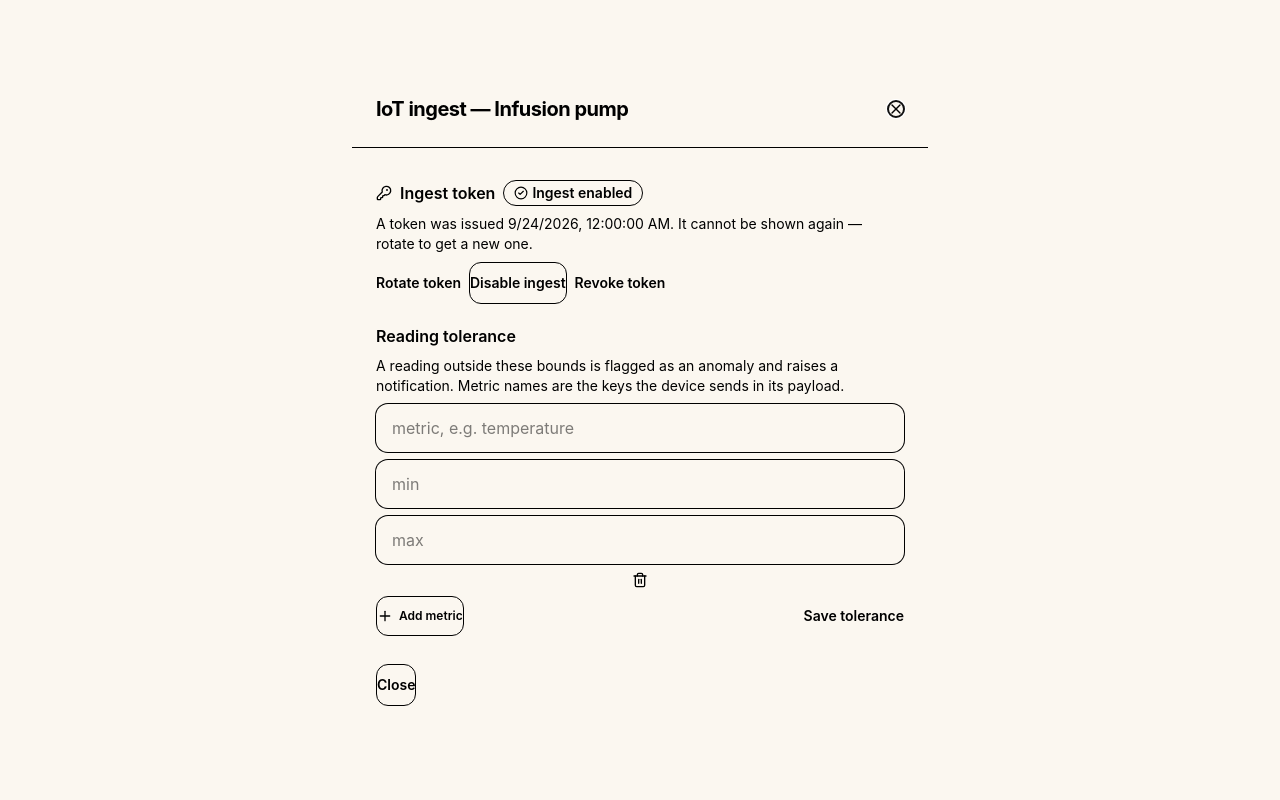
A-29 — IotDeviceModal › revokes the token
The width and height of the screenshot is (1280, 800).
Click the button "Revoke token". click: coordinates (620, 282)
box: [575,262,665,304]
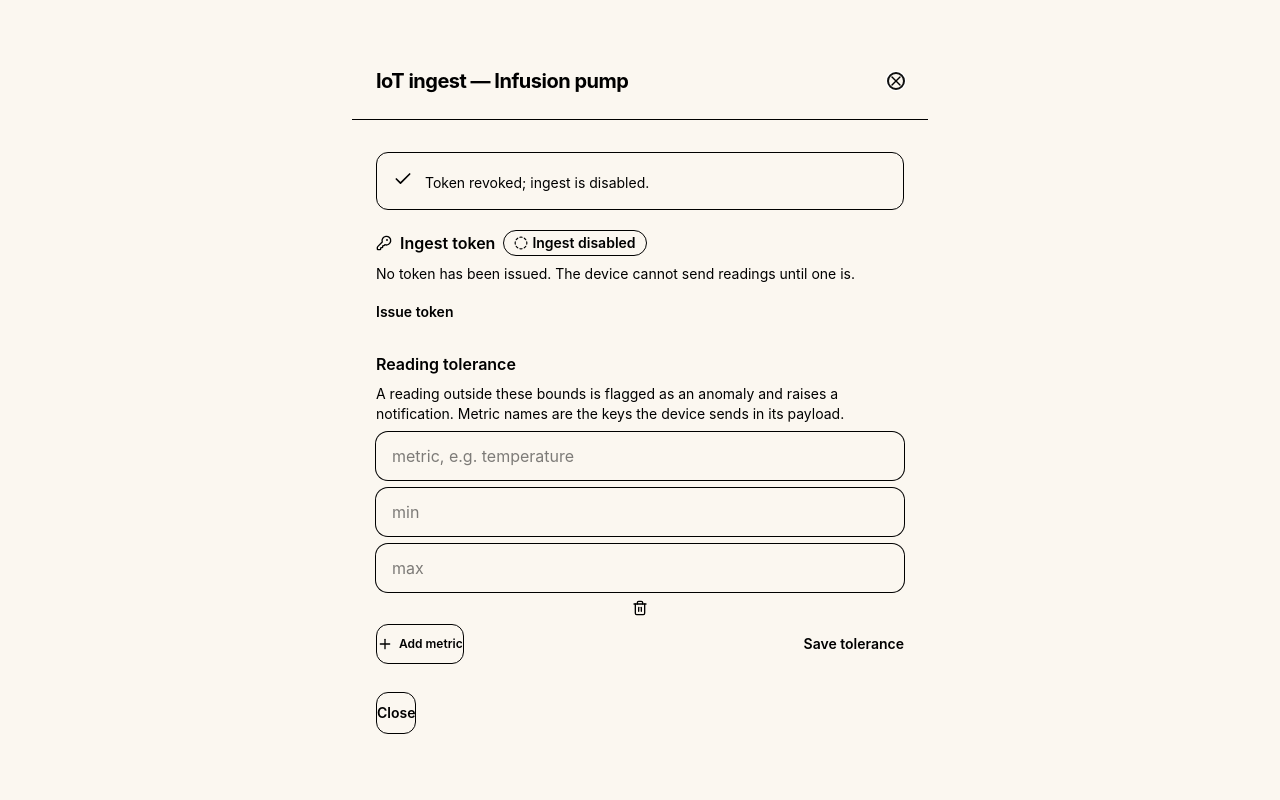
Expected: the text "Token revoked; ingest is disabled." is shown, [425,174,649,190]
Expected: the button "Issue token" is shown, [376,292,454,332]
